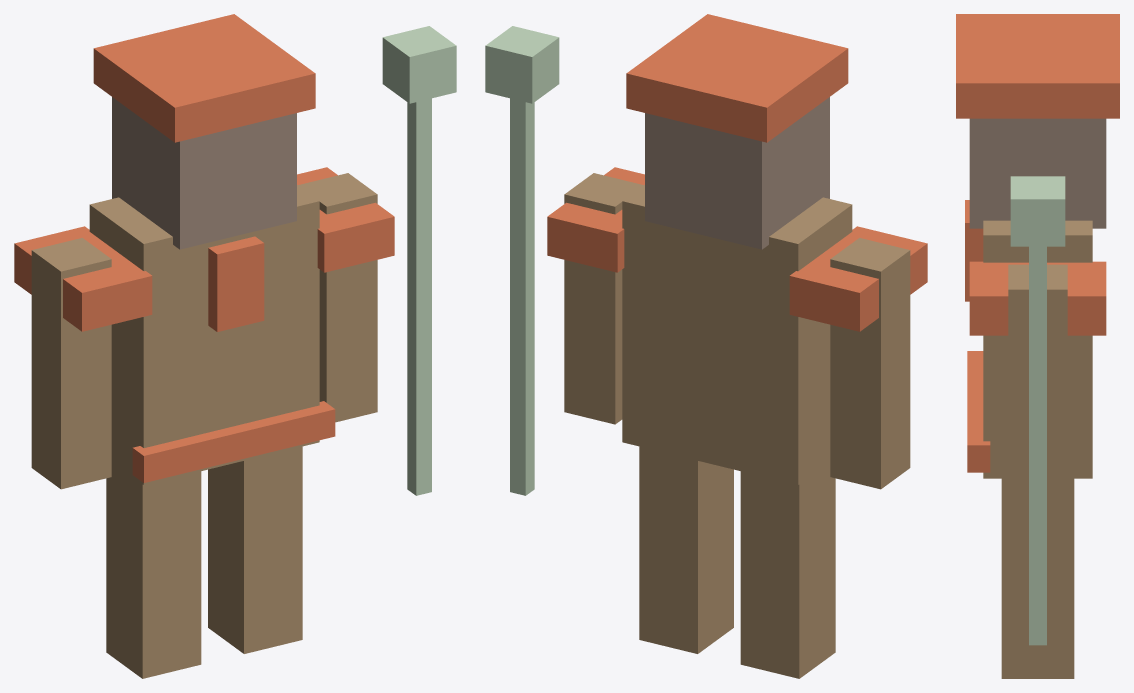
The model's file is 04_orin_glassroot_engineer_at_echo.glb.
3 views of the same model, side by side, from view 1: azimuth 30°, elevation 25°; view 2: azimuth 150°, elevation 25°; view 3: azimuth 270°, elevation 25° (orthographic).
Visible parts, largest first — view 1: Orin Glassroot, Engineer at Echo; view 2: Orin Glassroot, Engineer at Echo; view 3: Orin Glassroot, Engineer at Echo.
Part boxes in pixels (x1=…): Orin Glassroot, Engineer at Echo: x1=14, y1=14, x2=456, y2=678; Orin Glassroot, Engineer at Echo: x1=485, y1=14, x2=927, y2=678; Orin Glassroot, Engineer at Echo: x1=956, y1=14, x2=1119, y2=678.
Size of the model in its own units: 1.02 by 1.45 by 0.3635.
